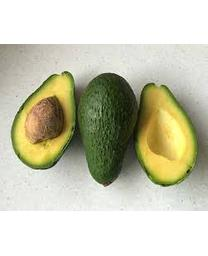avocado: (132, 83, 199, 188), (77, 73, 138, 188), (10, 70, 78, 171)
